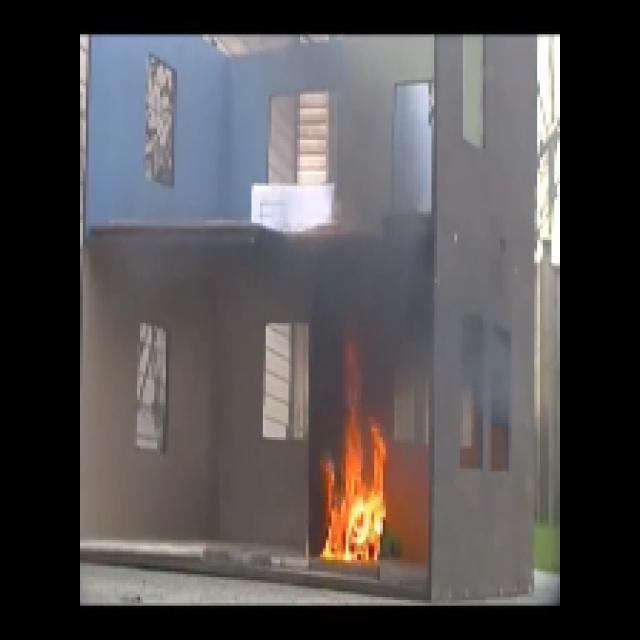Fire: (316, 433, 384, 559)
Smoke: (332, 264, 422, 318)
